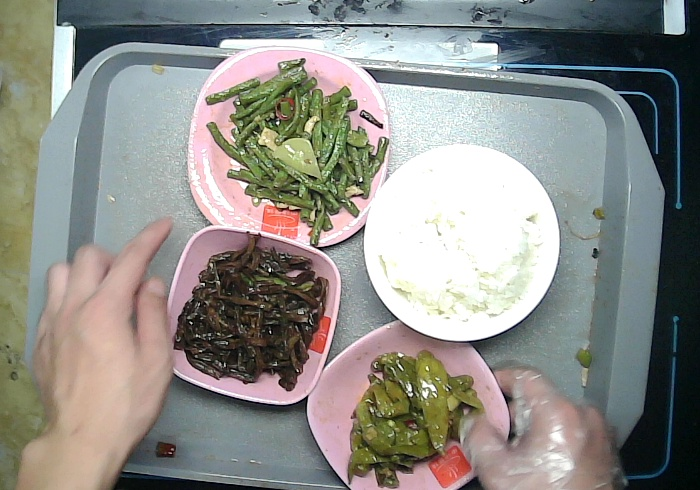SHKJ-Fan_Wan: (360, 141, 565, 345)
SHKJ-Fen_Se_Cai_Die: (301, 312, 513, 490)
SHKJ-Fen_Se_Si_Fang_Cai_Die: (182, 41, 394, 255)
SHKJ-Fen_Se_Xiao_Fang_Die: (161, 220, 345, 409)
